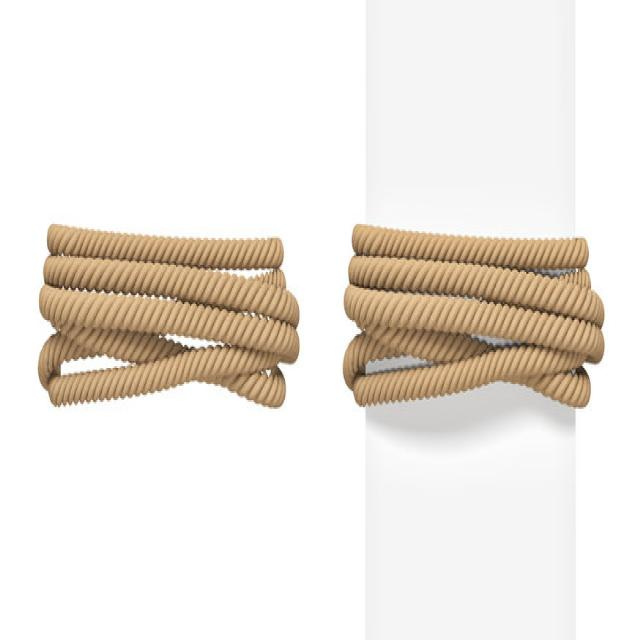Rope: (34, 196, 304, 442)
